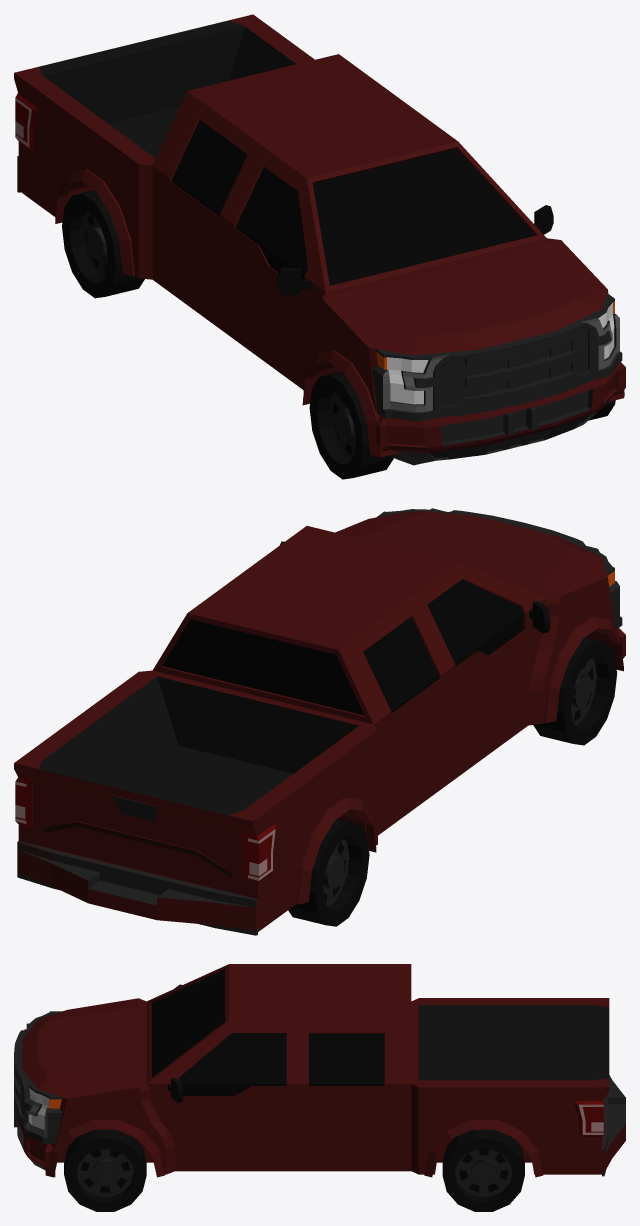
The model's file is SM_pickup02.FBX.
3 views of the same model, one above another, from view 1: azimuth 30°, elevation 25°; view 2: azimuth 150°, elevation 25°; view 3: azimuth 270°, elevation 25° (orthographic). The views are drawn at different scales.
Parts seen in each view (by area): view 1: FordF150; view 2: FordF150; view 3: FordF150.
Boxes of the visible parts, bbox=[...] form: FordF150: bbox=[14, 14, 625, 479]; FordF150: bbox=[14, 508, 625, 935]; FordF150: bbox=[14, 964, 625, 1211].
Bounding box in the file's own units: 219 × 171 × 551.
